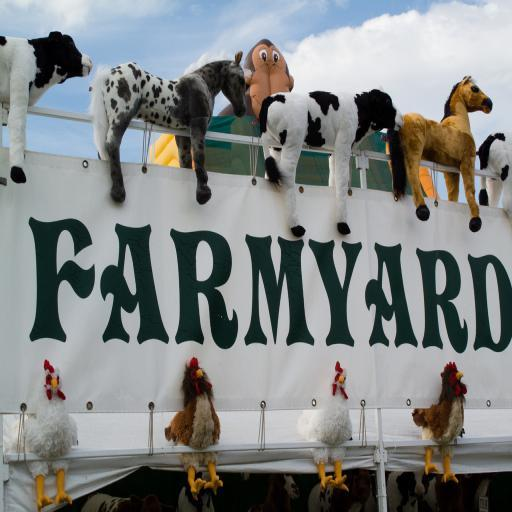Horse: (92, 51, 250, 199)
